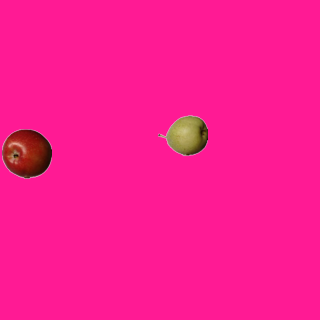Apple Braeburn: (1, 128, 51, 178)
Pear: (157, 110, 207, 160)
